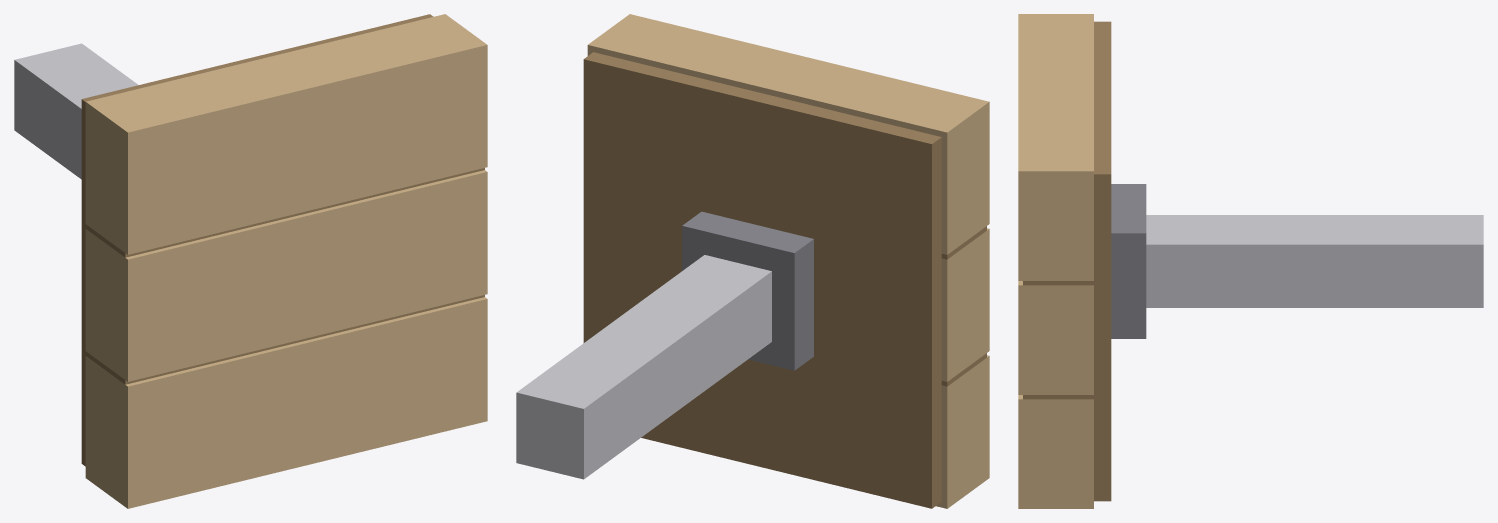
The model's file is piston_head.gltf.
3 views of the same model, side by side, from view 1: azimuth 30°, elevation 25°; view 2: azimuth 150°, elevation 25°; view 3: azimuth 270°, elevation 25° (orthographic). The views are drawn at different scales.
Visible parts, largest first — view 1: piston_head; view 2: piston_head; view 3: piston_head.
Boxes of the visible parts, x1=… form: piston_head: x1=14, y1=14, x2=487, y2=508; piston_head: x1=516, y1=14, x2=989, y2=508; piston_head: x1=1018, y1=14, x2=1483, y2=508.
Bounding box in the file's own units: 1 × 1 × 1.25.
